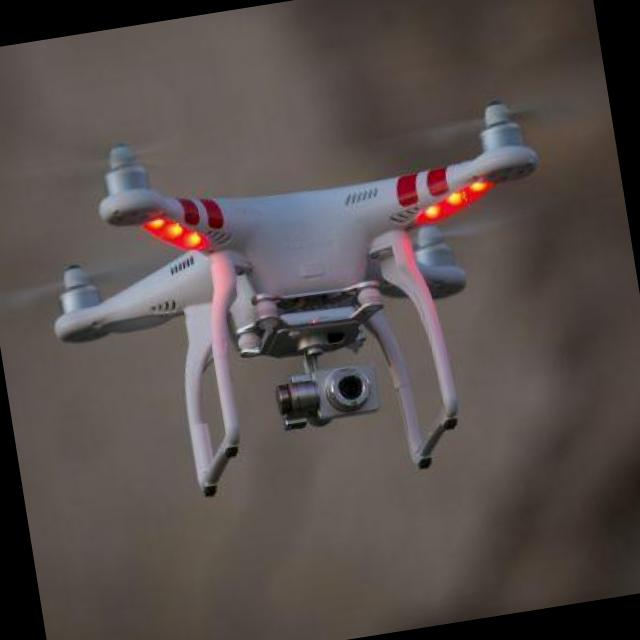drone: (30, 74, 578, 526)
